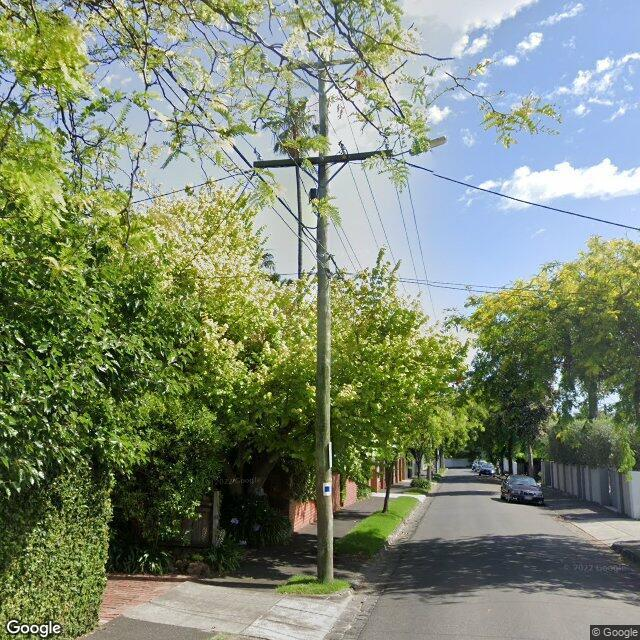HV-transmission: (260, 26, 372, 73)
crossarm: (252, 140, 396, 168), (262, 56, 370, 73)
streetlight: (392, 135, 448, 157)
timber-pole: (316, 51, 334, 584)
